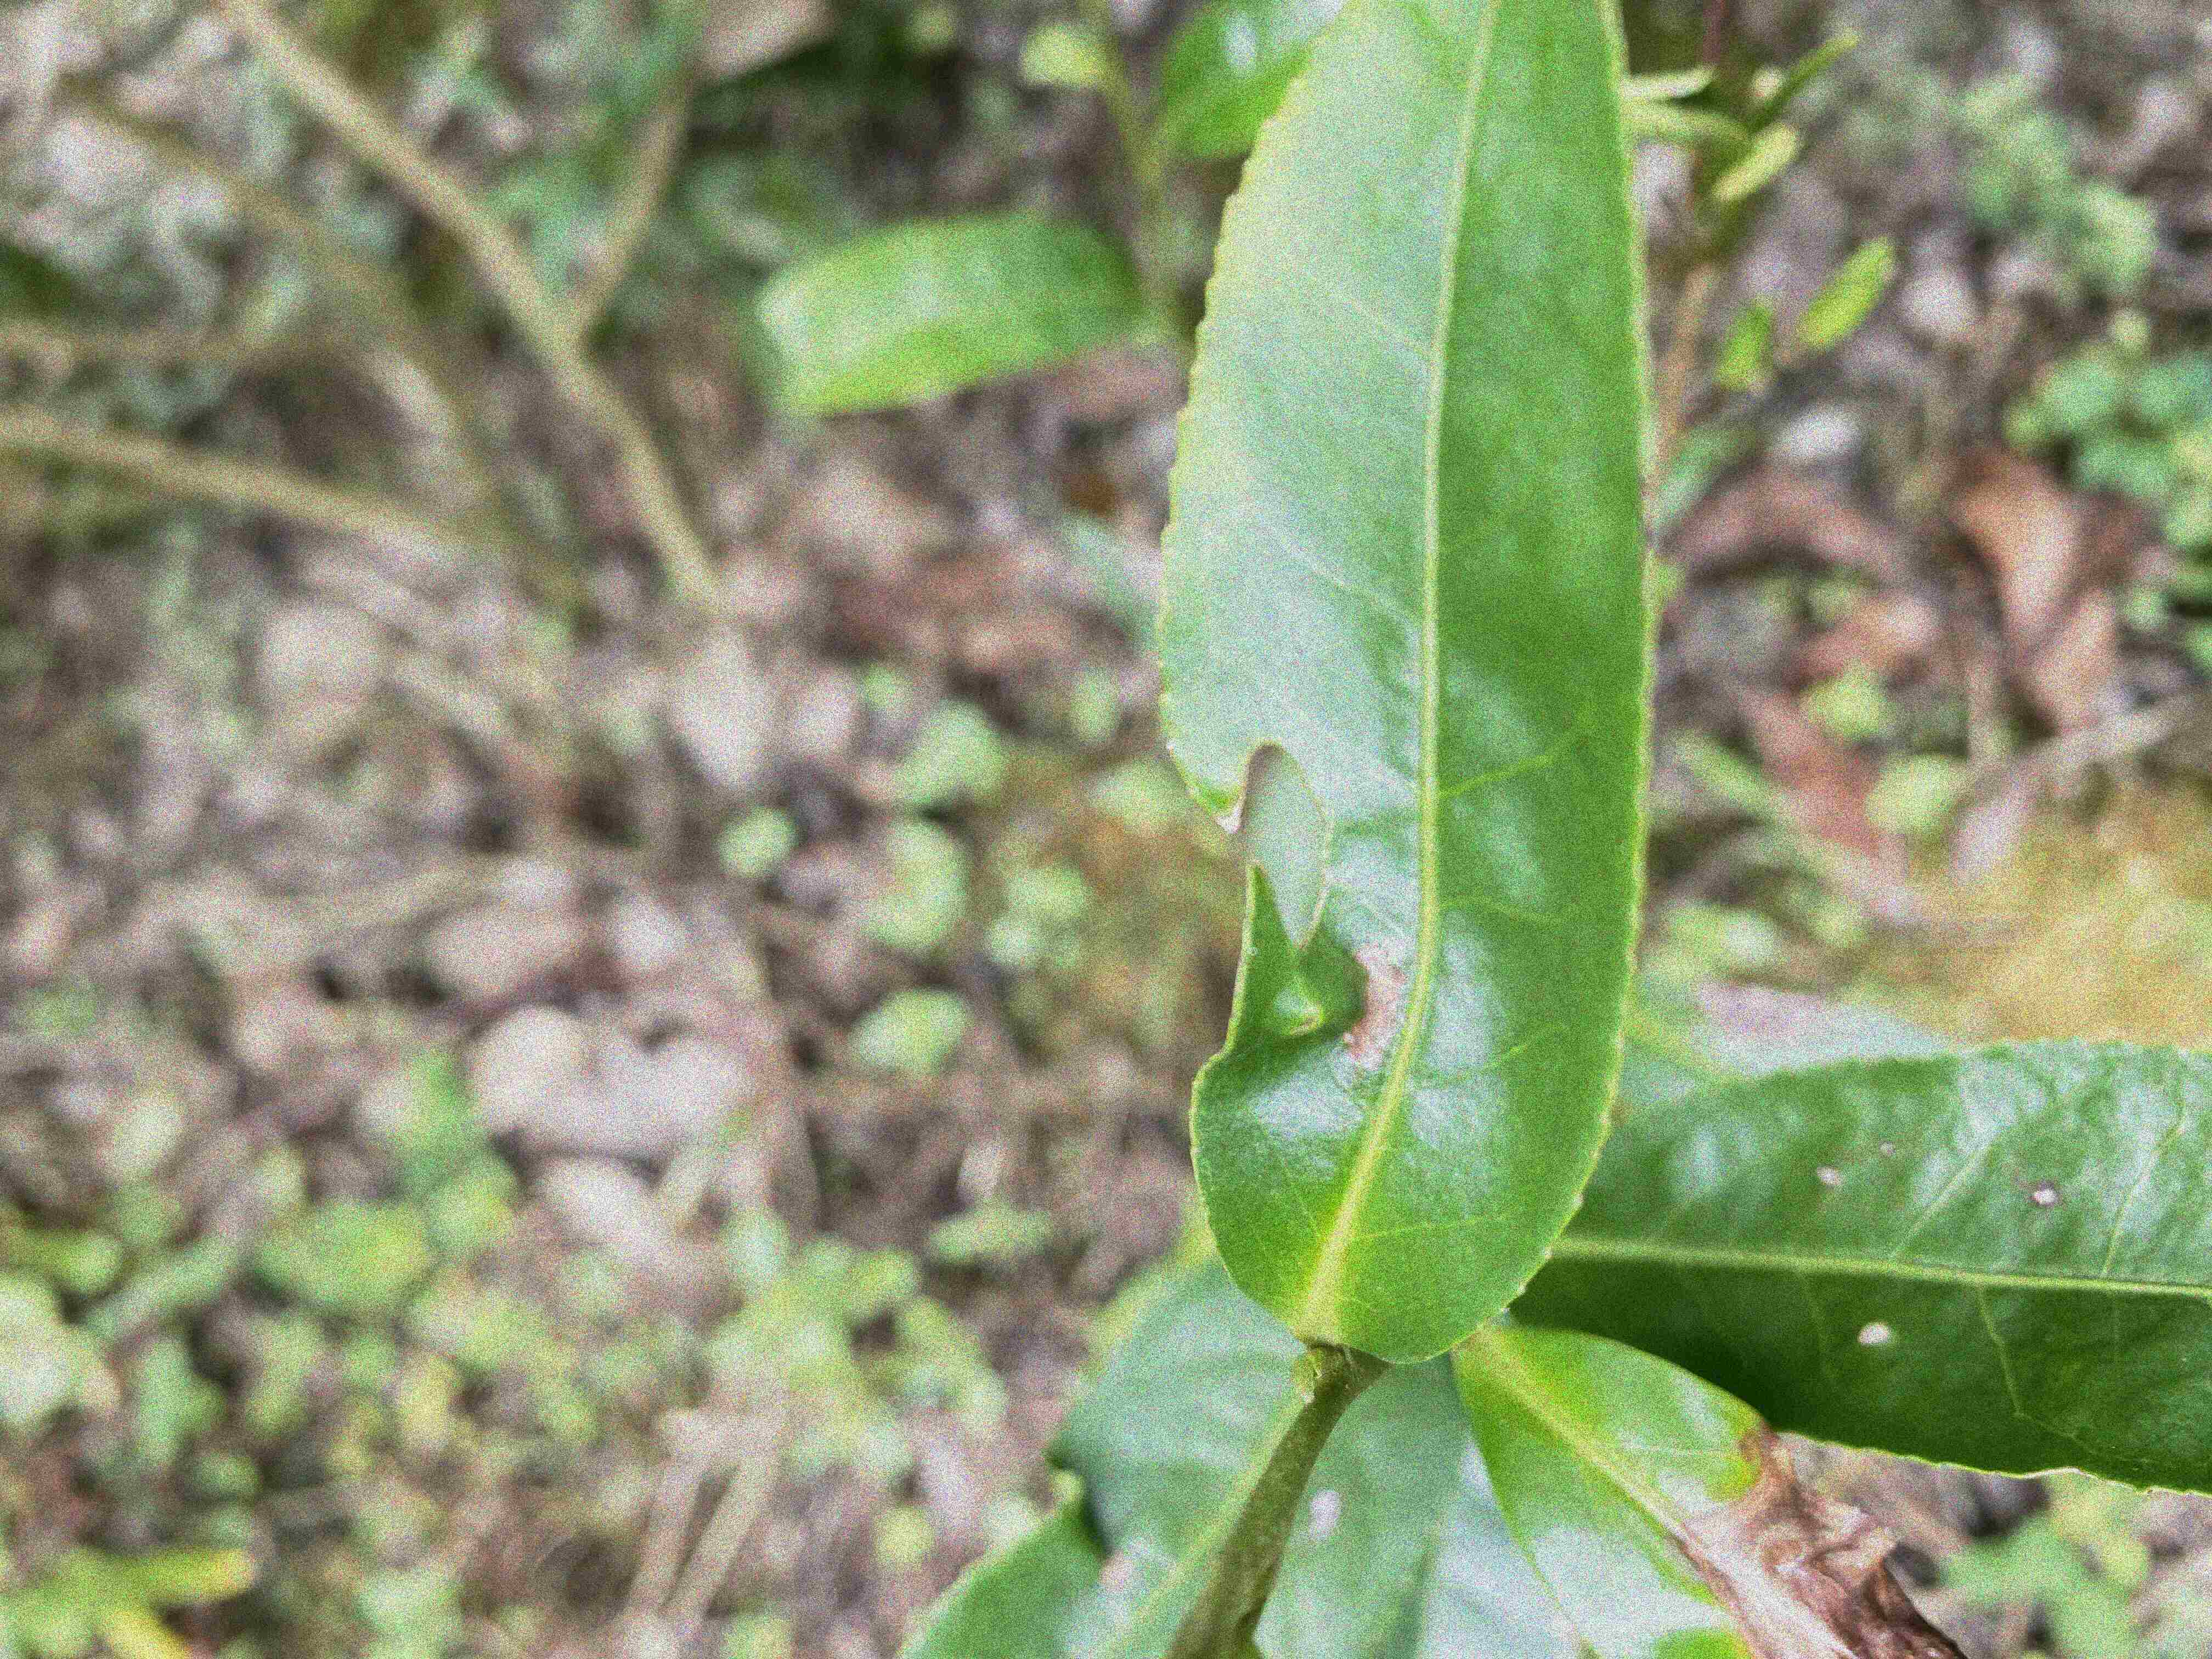tanju_high: (1454, 1324, 1975, 1657)
